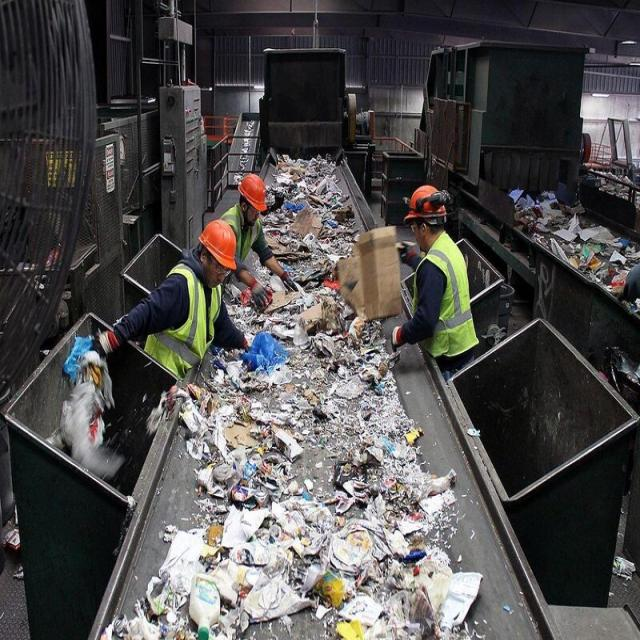cardboard: (348, 238, 398, 310), (298, 213, 318, 240)
plastic: (181, 562, 237, 628)
trash: (337, 524, 450, 622)
